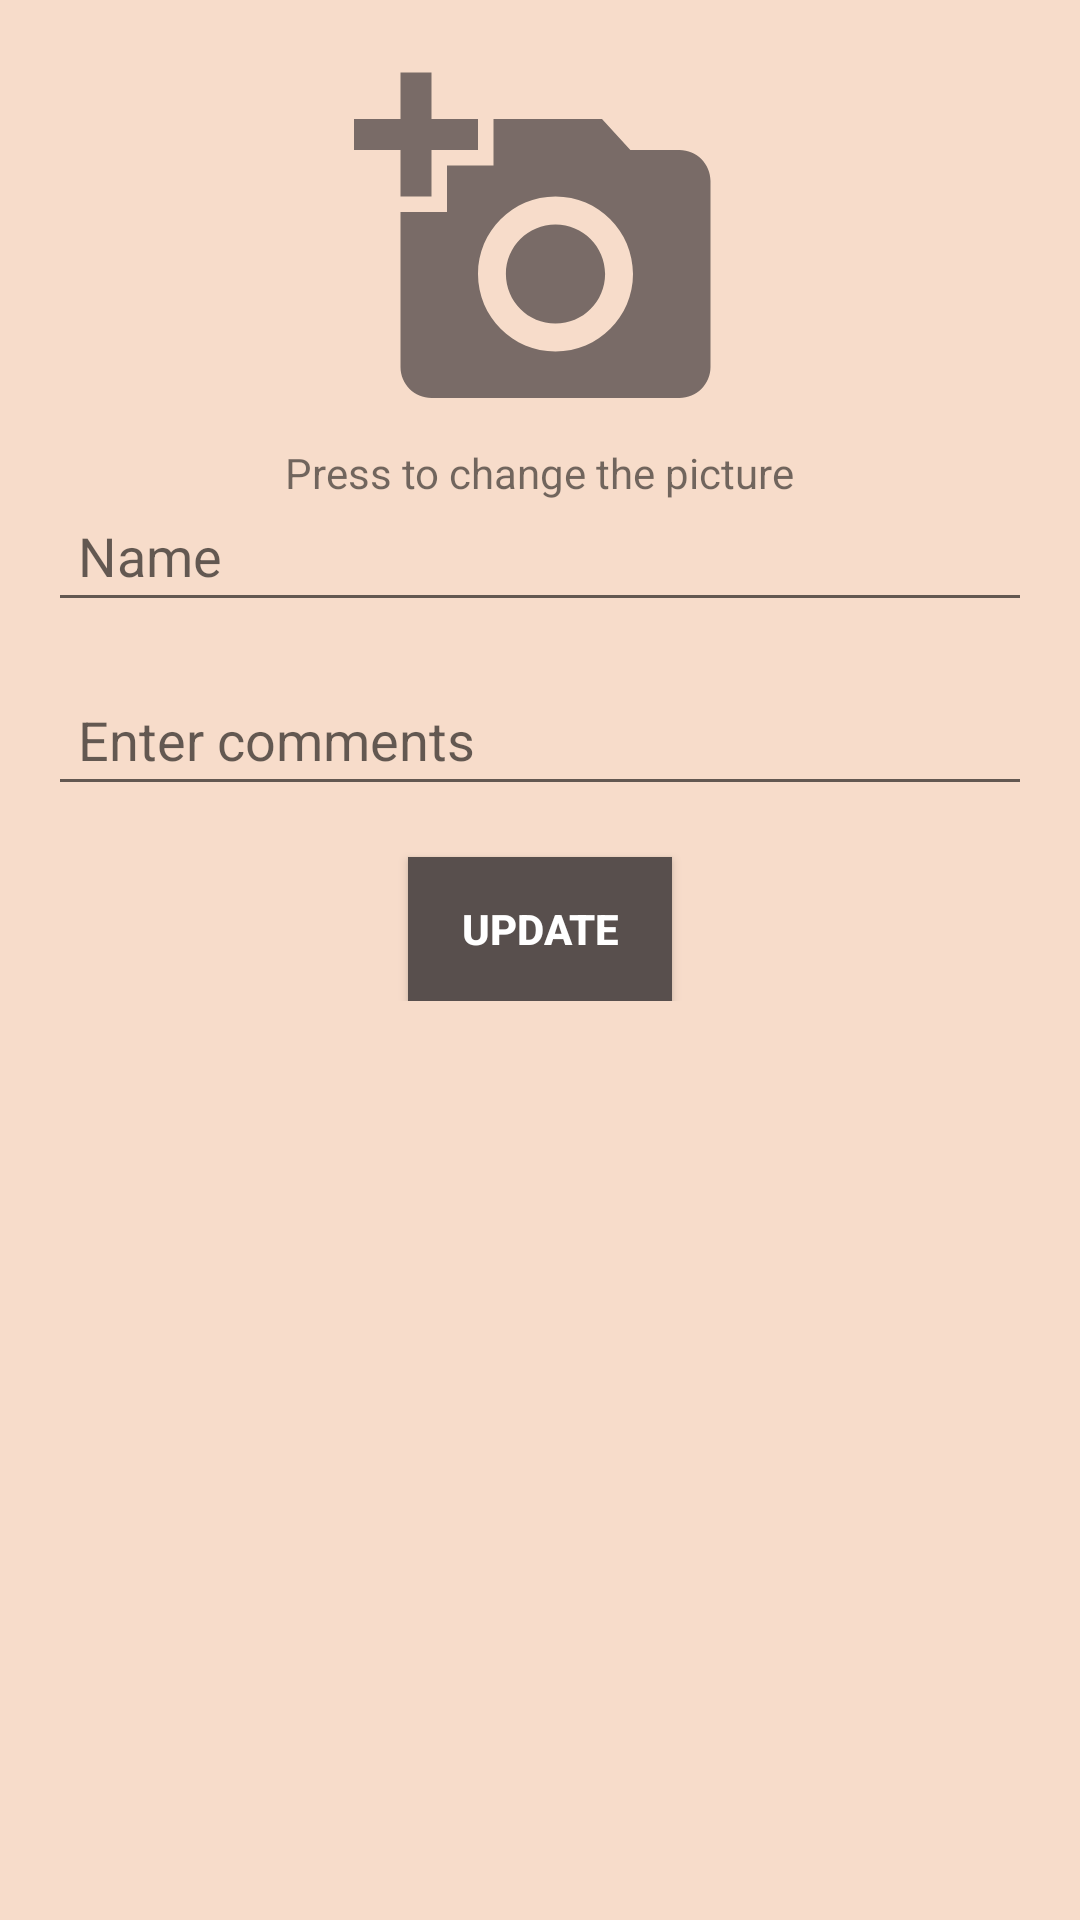

Named icons in this screenshot (1080 x 1920) and their bounding boxes, (x1, y1, x2, y2):
addphoto: (354, 72, 711, 398)
